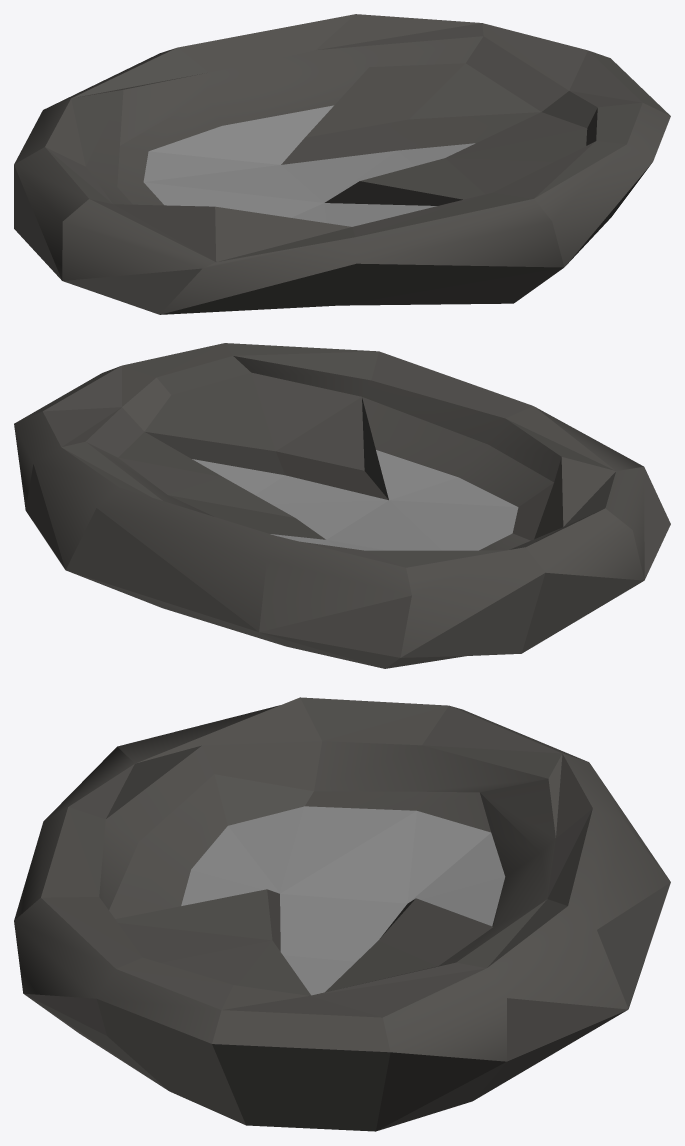
File: ItemFossil3 1.fbx
3 renders of one model, top to bottom at view 1: azimuth 30°, elevation 25°; view 2: azimuth 150°, elevation 25°; view 3: azimuth 270°, elevation 25°, orthographic. The views are drawn at different scales.
Visible parts, largest first — view 1: pCube10; view 2: pCube10; view 3: pCube10.
Boxes of the visible parts, bbox=[...] form: pCube10: bbox=[14, 14, 670, 314]; pCube10: bbox=[14, 343, 670, 668]; pCube10: bbox=[14, 697, 670, 1131].
Size of the model in its own units: 1.97 by 0.5018 by 1.58.
